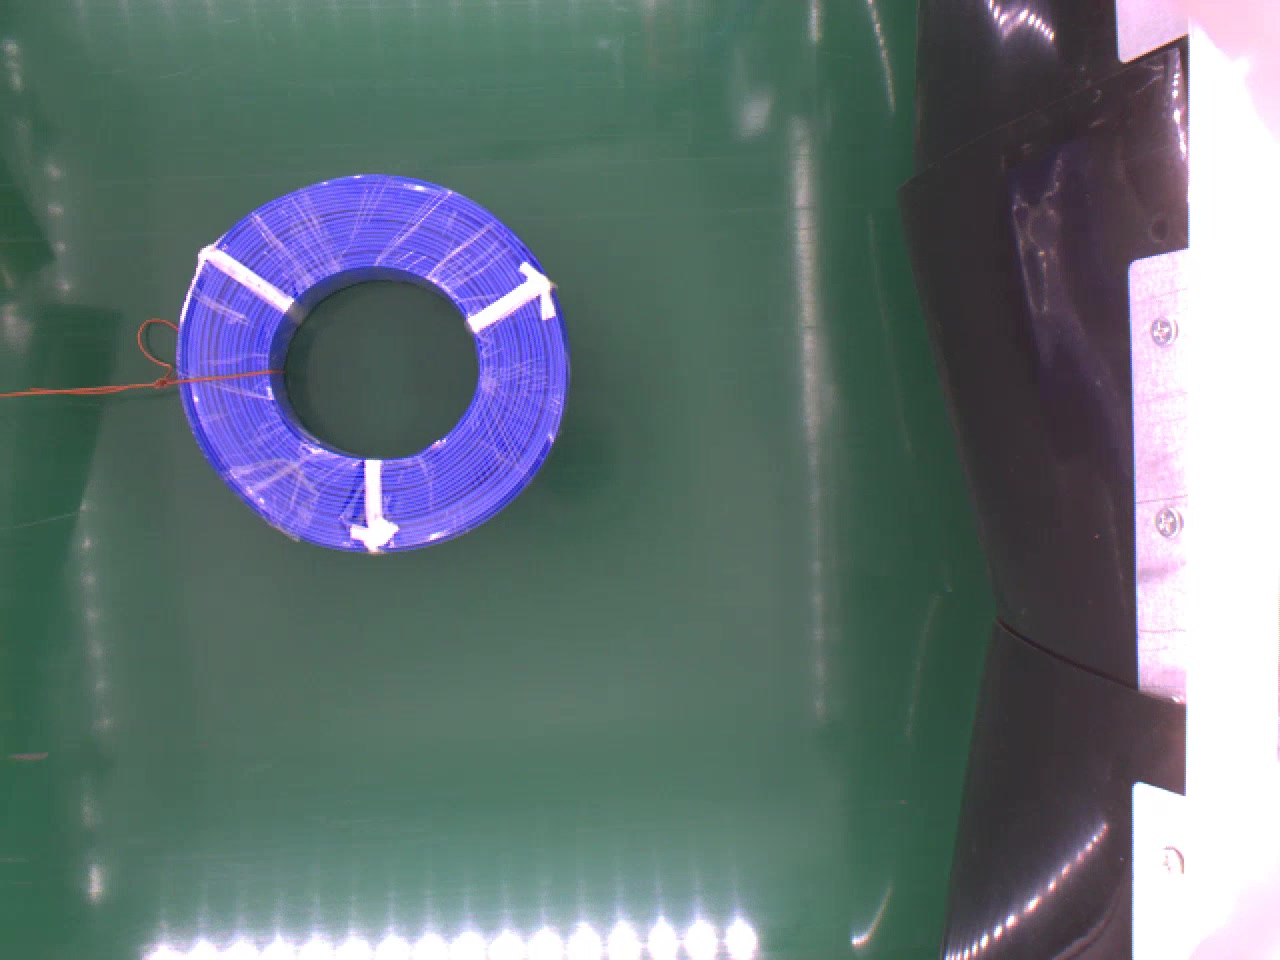blue: (172, 177, 569, 558)
